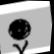not correct: (3, 14, 37, 54)
